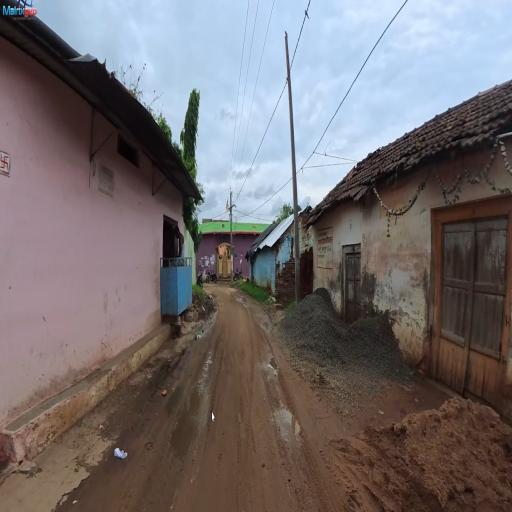pothole: (183, 379, 221, 469), (264, 399, 305, 472)
